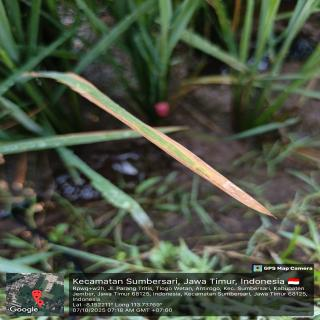Hawar-Daun: (58, 80, 271, 216)
